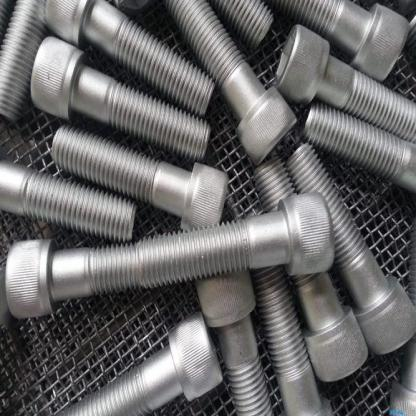FOD: (31, 34, 212, 167), (162, 0, 300, 165), (134, 188, 338, 293), (52, 126, 230, 234), (57, 312, 226, 415), (3, 223, 162, 325)
